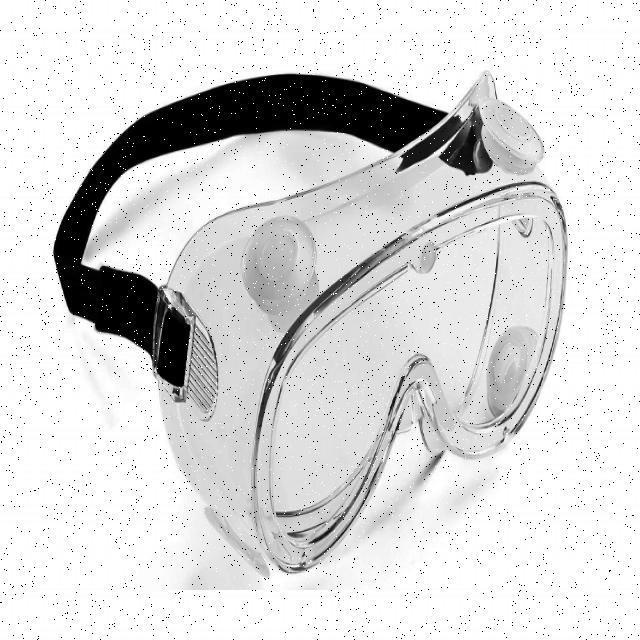goggles_on: (32, 56, 584, 600)
